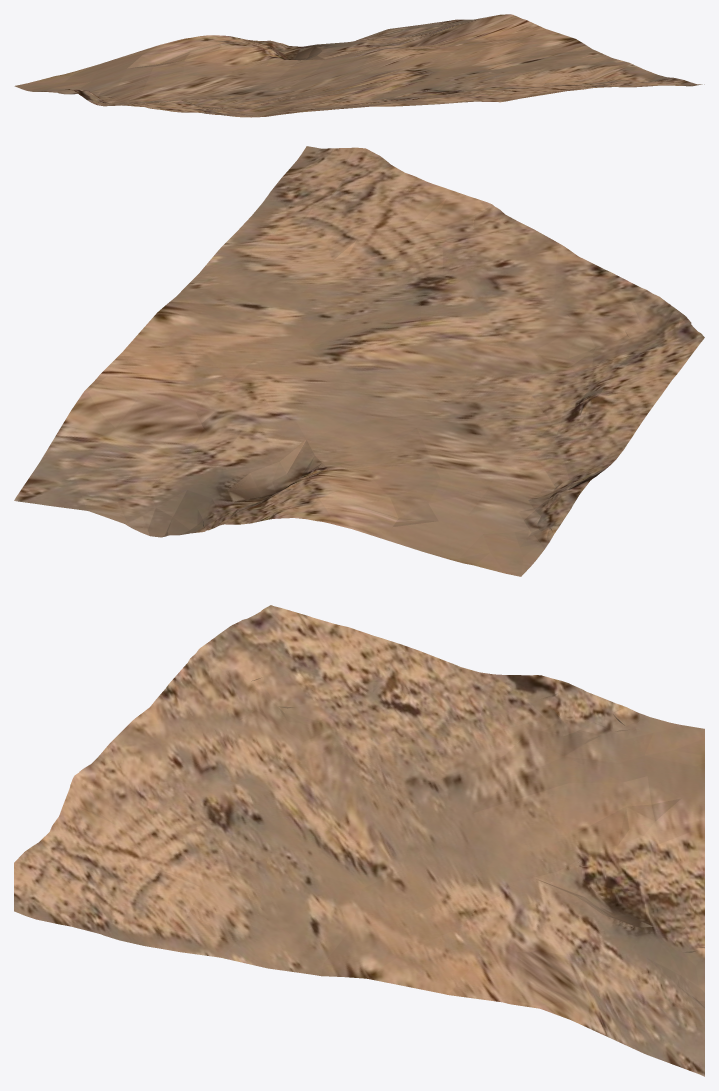
3 renders of one model, top to bottom at view 1: azimuth 30°, elevation 25°; view 2: azimuth 150°, elevation 25°; view 3: azimuth 270°, elevation 25°, orthographic. The views are drawn at different scales.
Bounding box in the file's own units: 4.18 × 1.22 × 4.18.
Materials: 2 (2 with a texture image).
